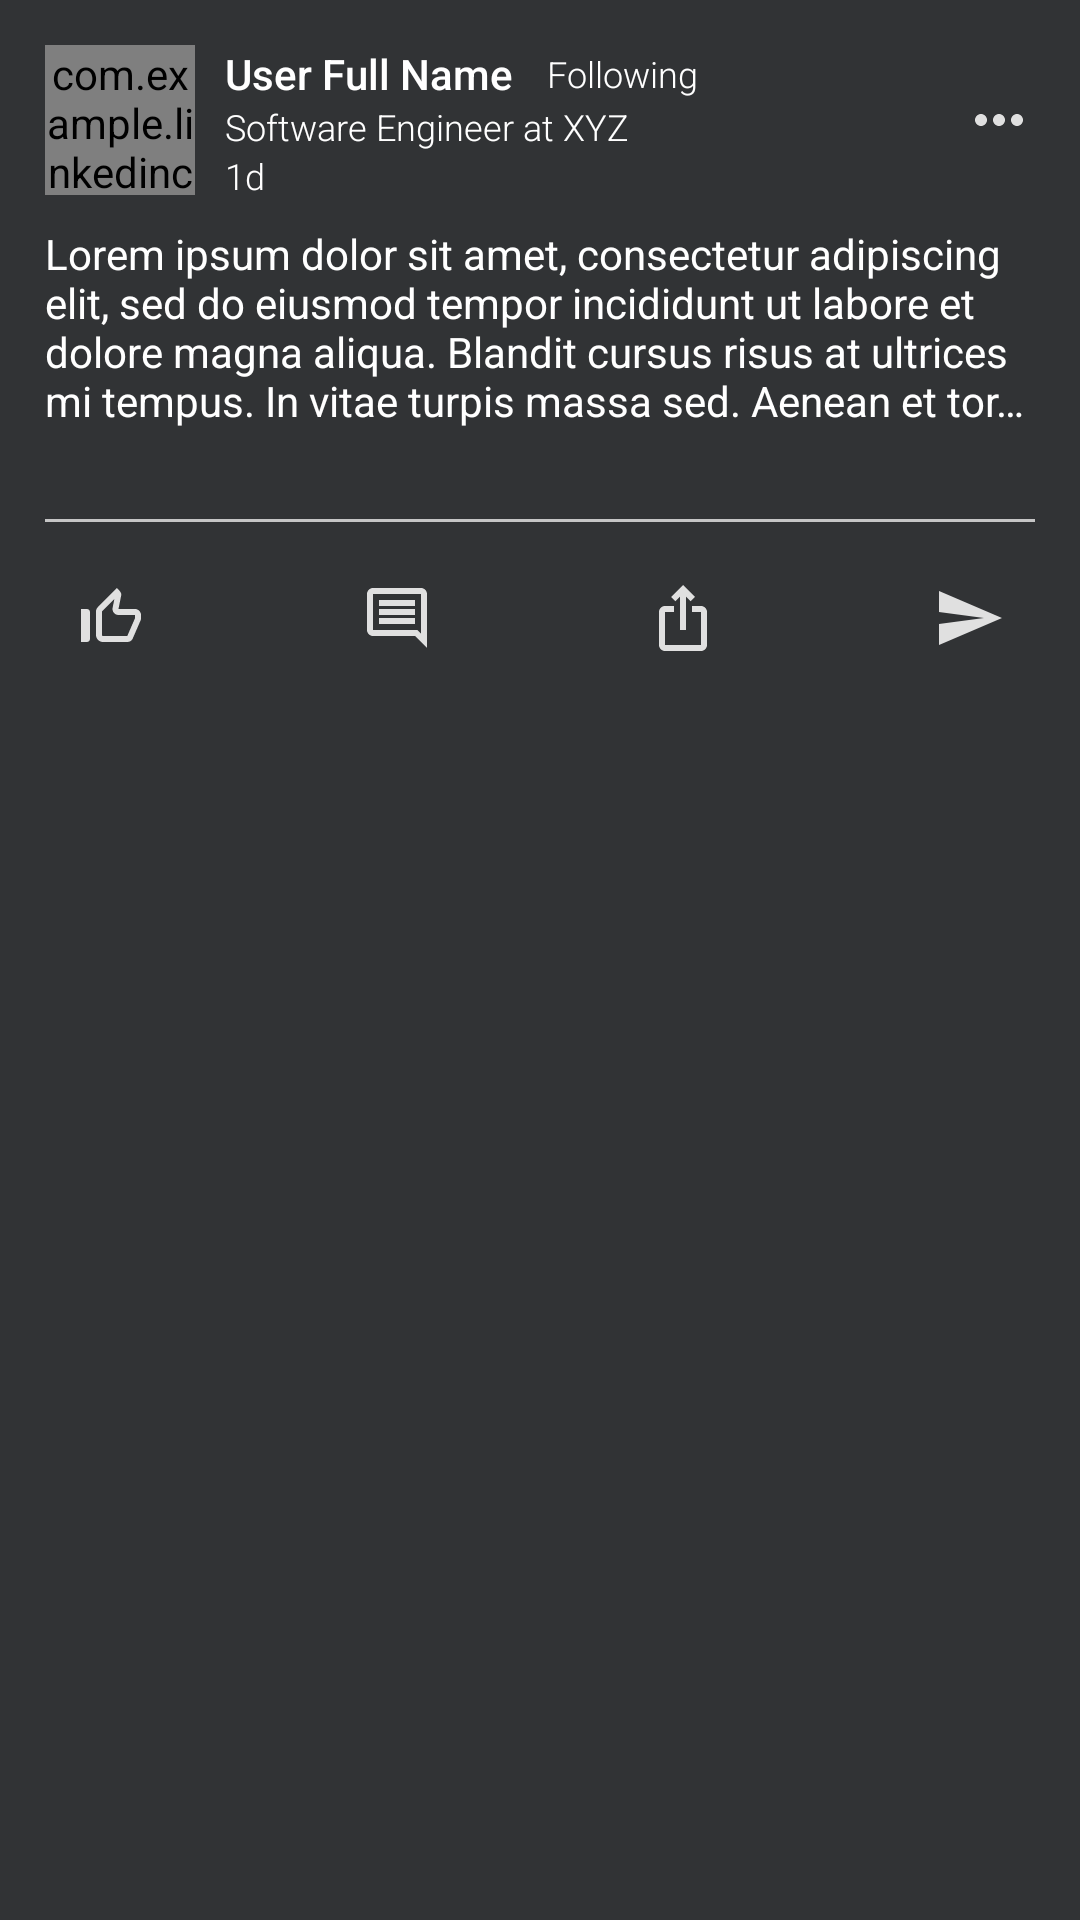

Screen size 1080px x 1920px. Icon name, then its center in pixels as [x,y]:
comment: [397,618]
like: [111,615]
more: [999,120]
send: [970,618]
share: [683,618]
